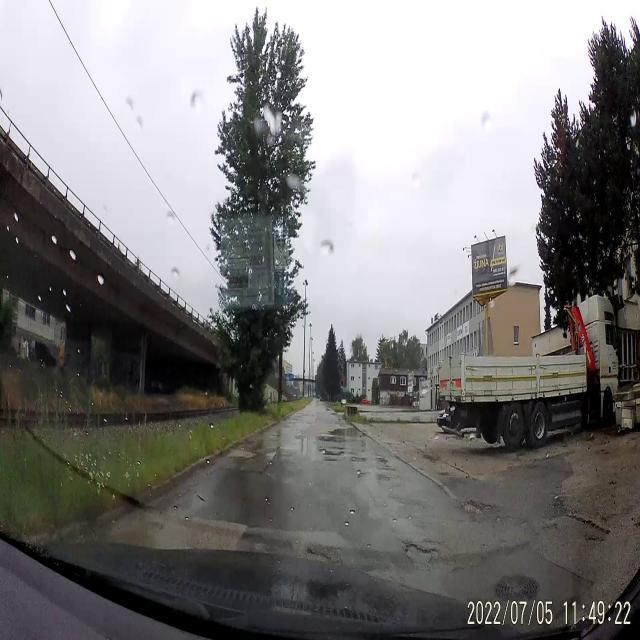Manhole: (486, 570, 544, 608)
Pothole: (402, 535, 444, 571), (298, 536, 341, 564), (349, 452, 366, 465), (376, 473, 401, 481), (376, 453, 390, 466), (322, 456, 340, 464), (329, 444, 348, 450), (356, 470, 370, 478)
